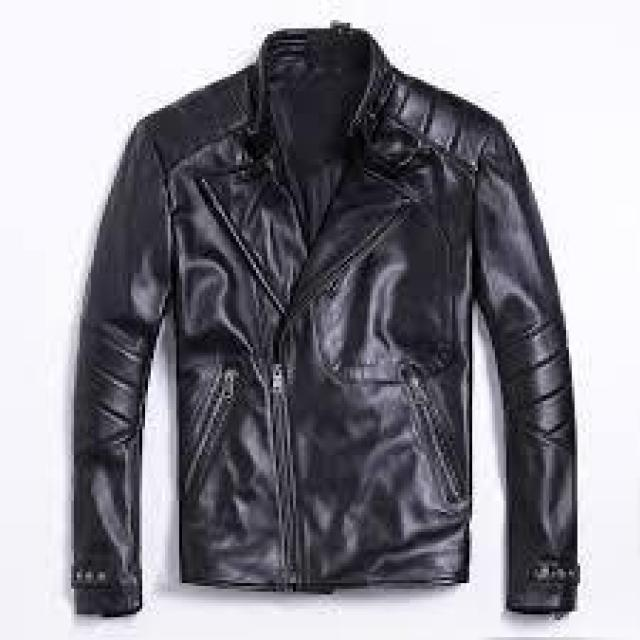jacket: (75, 23, 579, 626)
